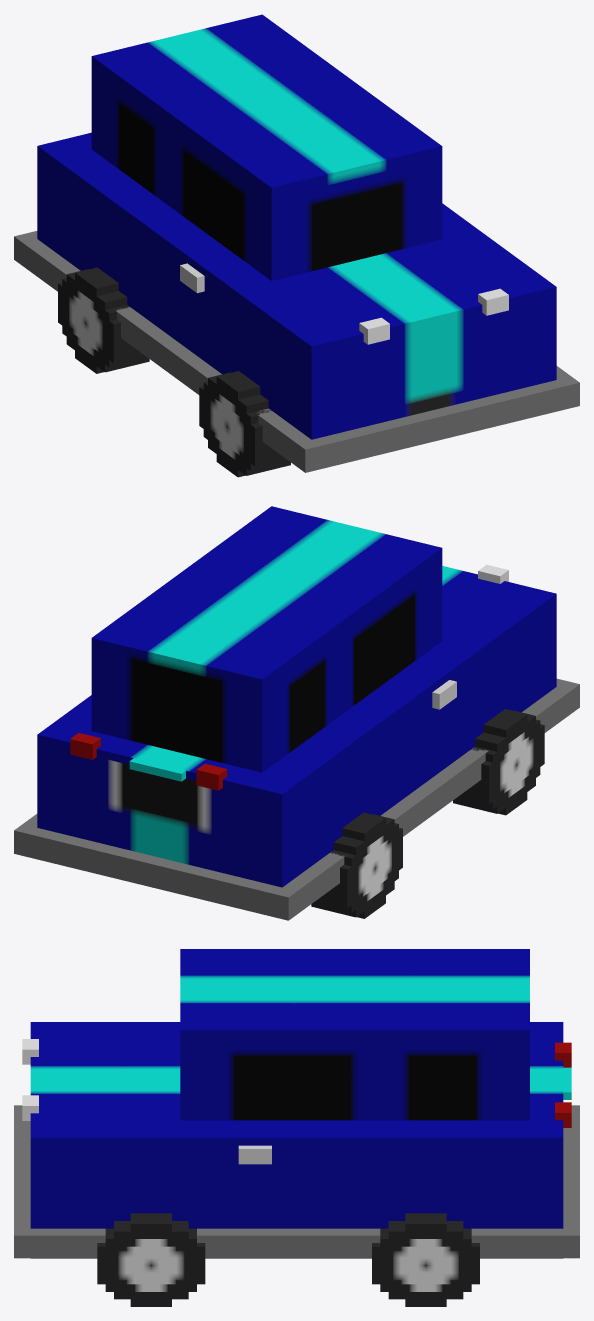
The model's file is car_5.fbx.
3 renders of one model, top to bottom at view 1: azimuth 30°, elevation 25°; view 2: azimuth 150°, elevation 25°; view 3: azimuth 270°, elevation 25°, orthographic. The views are drawn at different scales.
Visible parts, largest first — view 1: body, back_right_wheel, back_left_wheel; view 2: body, back_right_wheel, back_left_wheel; view 3: body, front_right_wheel, front_left_wheel.
Part boxes in pixels (left/top/right/bottom): body: left=14, top=14, right=579, bottom=472; back_right_wheel: left=199, top=371, right=290, bottom=477; back_left_wheel: left=58, top=267, right=149, bottom=373; body: left=14, top=506, right=579, bottom=920; back_right_wheel: left=453, top=709, right=544, bottom=815; back_left_wheel: left=311, top=812, right=402, bottom=918; body: left=14, top=949, right=579, bottom=1258; front_right_wheel: left=97, top=1213, right=205, bottom=1306; front_left_wheel: left=372, top=1213, right=479, bottom=1306.
Bounding box in the file's own units: 39 × 33 × 68.
1 material, 1 textured.
